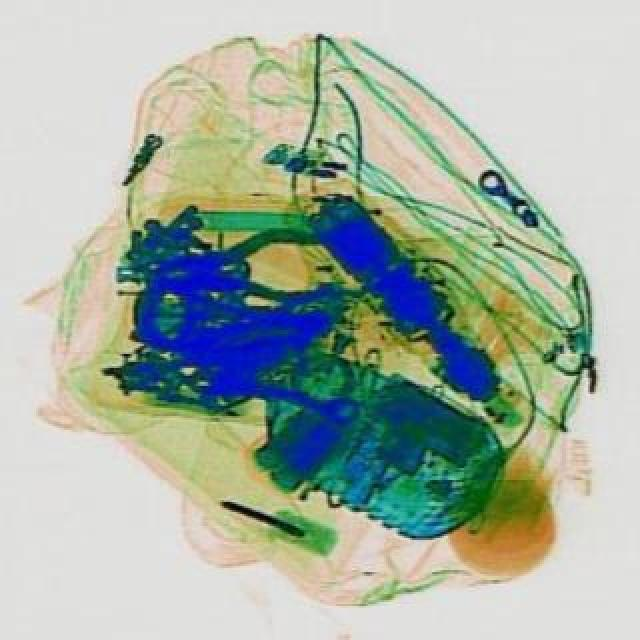scissors: (190, 364, 356, 426)
wrench: (148, 224, 336, 310)
